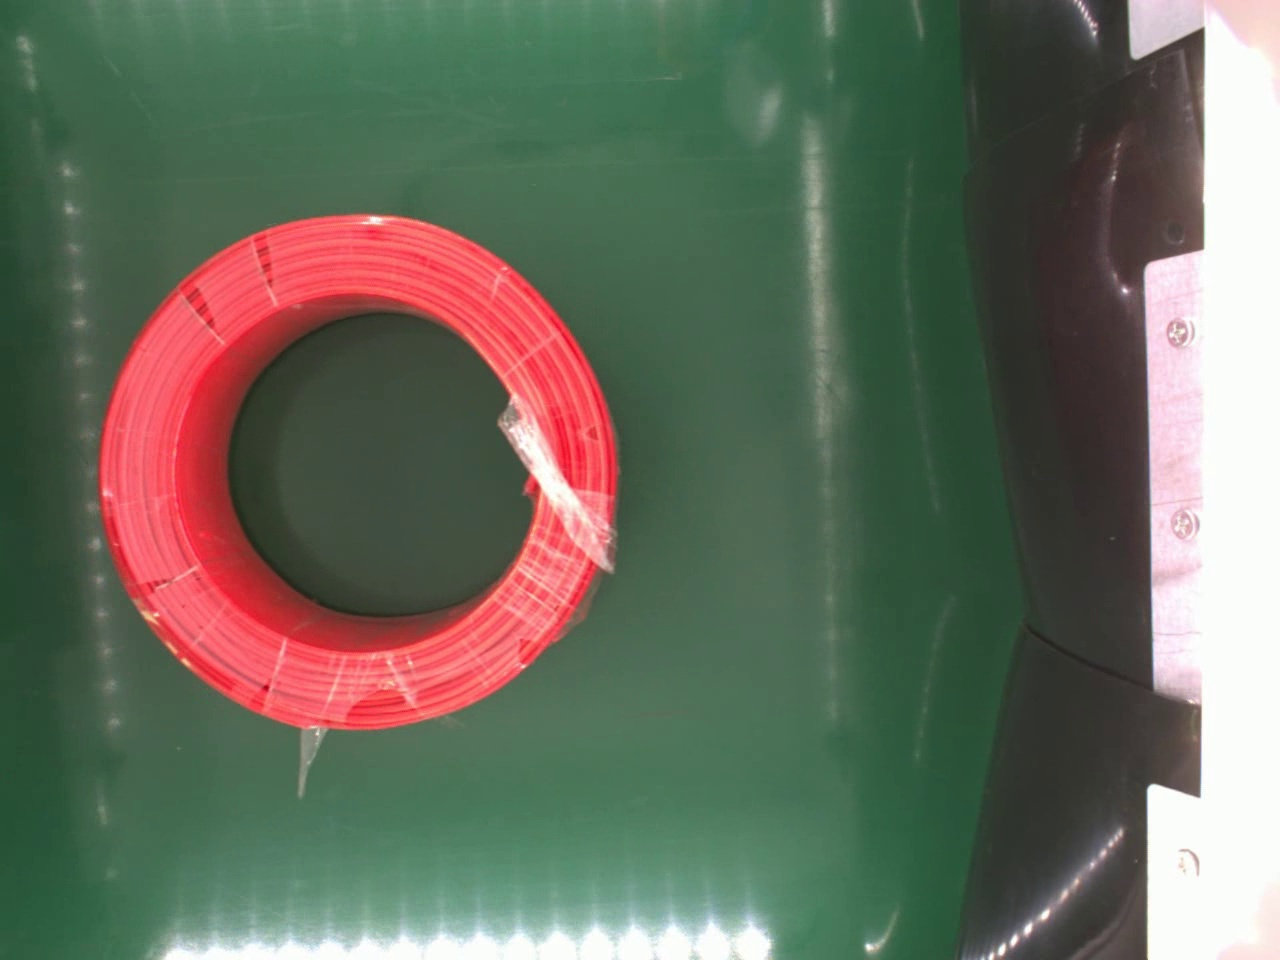red: (98, 206, 622, 735)
